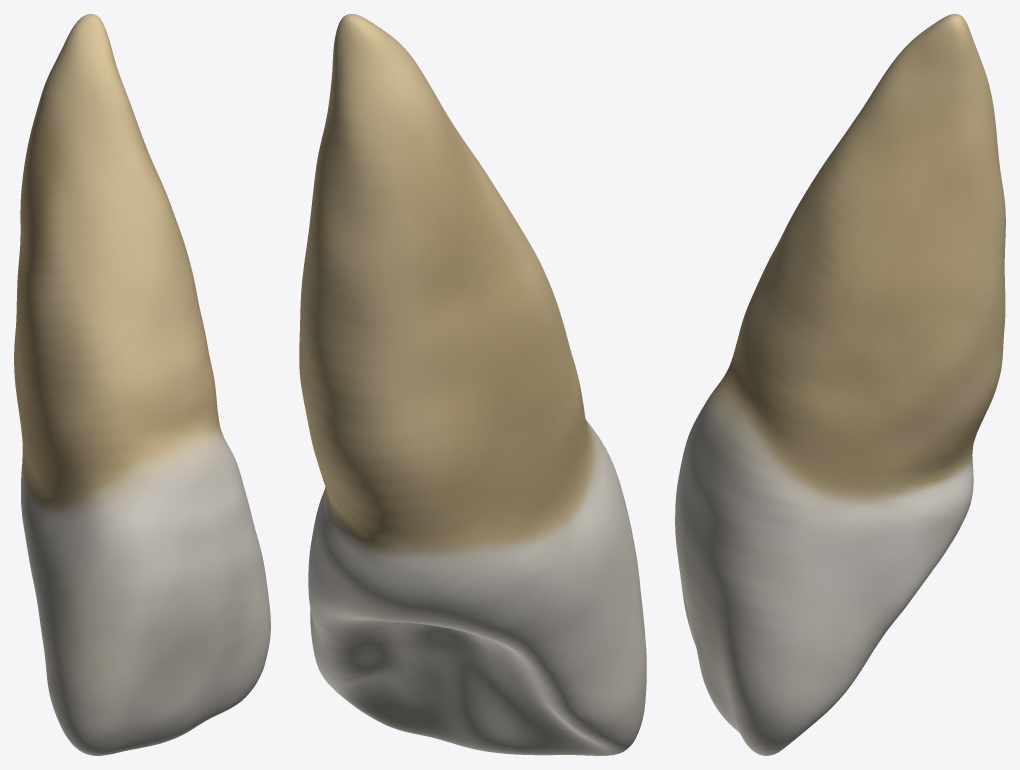
The model's file is maxillary_left_central_incisor.glb.
3 views of the same model, side by side, from view 1: azimuth 30°, elevation 25°; view 2: azimuth 150°, elevation 25°; view 3: azimuth 270°, elevation 25° (orthographic). The views are drawn at different scales.
Visible parts, largest first — view 1: Object_2; view 2: Object_2; view 3: Object_2.
Boxes of the visible parts, bbox=[...] form: Object_2: bbox=[14, 14, 270, 755]; Object_2: bbox=[299, 14, 646, 755]; Object_2: bbox=[675, 14, 1005, 755].
Bounding box in the file's own units: 0.32 × 0.8746 × 0.3642.
1 material, 1 textured.
